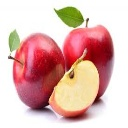apple: (49, 59, 100, 118)
